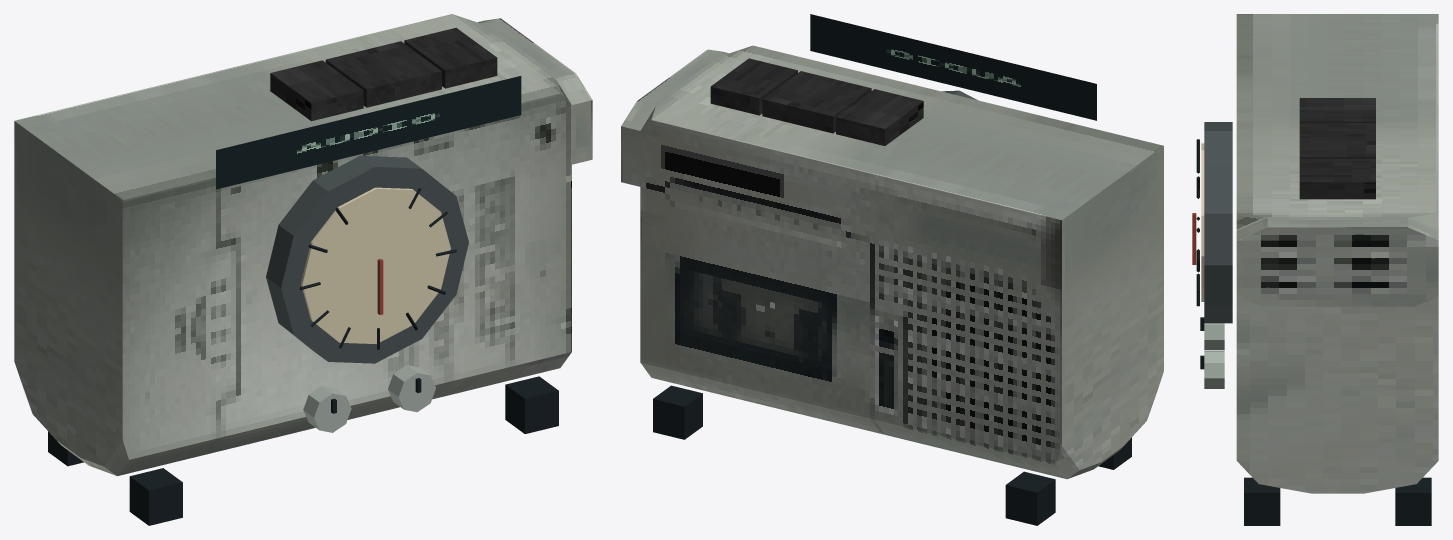
File: blender_sound_monitor_1.glb
3 renders of one model, left to right at view 1: azimuth 30°, elevation 25°; view 2: azimuth 150°, elevation 25°; view 3: azimuth 270°, elevation 25°, orthographic. The views are drawn at different scales.
Visible parts, largest first — view 1: blender_sound_monitor_1; view 2: blender_sound_monitor_1; view 3: blender_sound_monitor_1.
Part boxes in pixels (<box>): blender_sound_monitor_1: <box>14,14,592,525</box>; blender_sound_monitor_1: <box>621,14,1163,525</box>; blender_sound_monitor_1: <box>1192,14,1438,525</box>.
Bounding box in the file's own units: 0.25 × 0.19 × 0.122.
1 material, 1 textured.
